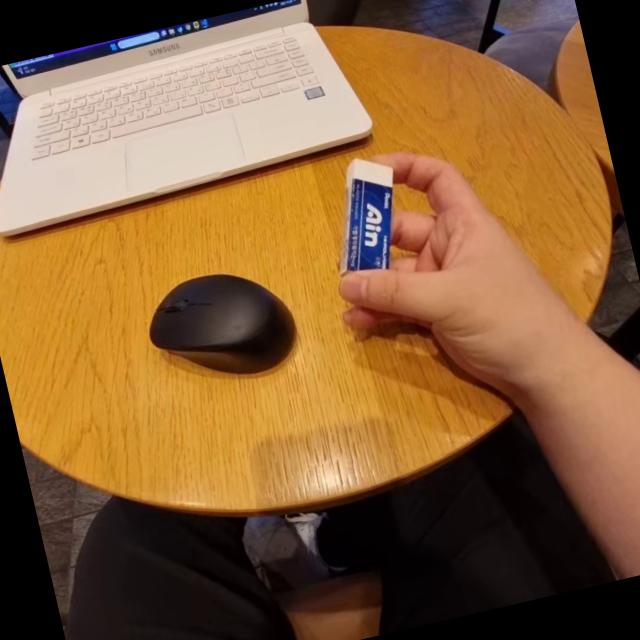eraser: (324, 147, 424, 295)
grab_eraser: (313, 120, 584, 414)
hand: (356, 122, 575, 376)
mouse: (142, 254, 314, 402)
